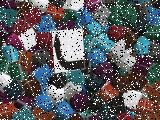Right: (51, 28, 85, 74)
